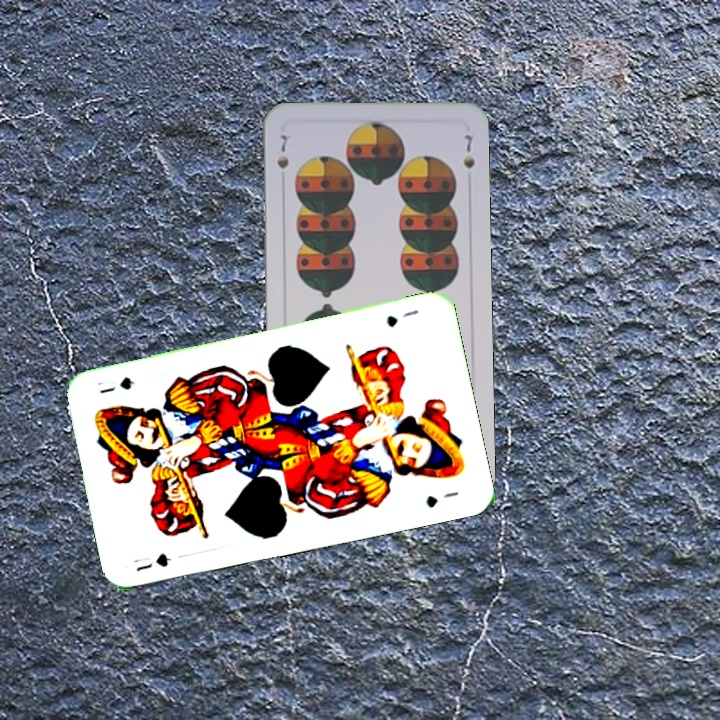GU: (132, 549, 173, 574), (382, 305, 421, 330)
S7: (273, 130, 292, 171)
